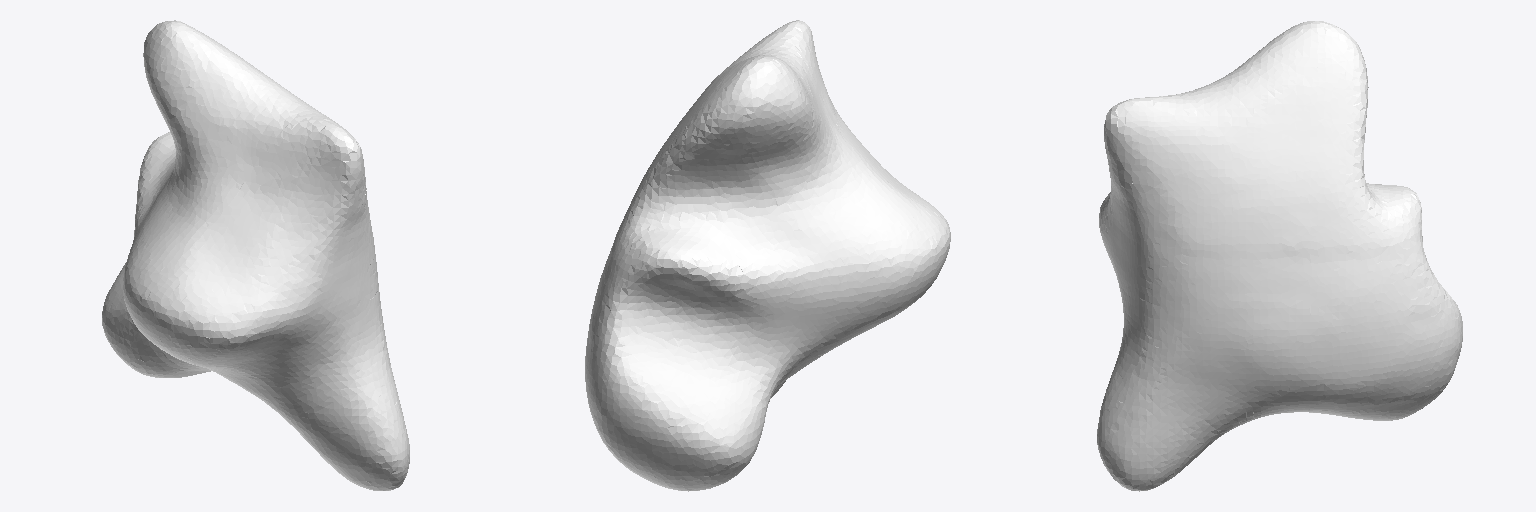
URDF robot description (feelie10):
<robot name="feelie10">
	<link name="_name">
		<visual>
			<origin rpy="0 0 0" xyz="-0.005408183361060957 0.0041717100882888115 0.0022391349810680994" />
			<geometry>
				<mesh filename="feelie10.obj" scale="0.001 0.001 0.001" />
			</geometry>
			<material name="texture">
				<color rgba="1.0 1.0 1.0 1.0" />
			</material>
		</visual>
		<collision>
			<geometry>
				<mesh filename="feelie10_vhacd.obj" scale="0.001 0.001 0.001" />
			</geometry>
		<origin rpy="0 0 0" xyz="-0.005408183361060957 0.0041717100882888115 0.0022391349810680994" /></collision>
		<inertial>
			<mass value="1.0" />
			<inertia ixx="1.0" ixy="0.0" ixz="0.0" iyy="1.0" iyz="0.0" izz="1.0" />
		</inertial>
	</link>
</robot>

--- Facts derived from the render (not from the file) ---
The picture shows the robot from 3 angles, left to right: view 1: azimuth 30°, elevation 25°; view 2: azimuth 150°, elevation 25°; view 3: azimuth 270°, elevation 25°; orthographic projection.
Model feelie10 with 1 links and 0 joints (none), rooted at _name, posed all joints at 0.
Links seen in each view (by area): view 1: _name; view 2: _name; view 3: _name.
Link boxes in pixels (<box>): _name: <box>102,20,409,490</box>; _name: <box>585,20,950,491</box>; _name: <box>1097,21,1462,491</box>.
Size in the robot's own frame: 0.0578 by 0.0767 by 0.0954 metres.
1 mesh visuals loaded from 1 distinct referenced files (1 OBJ).
